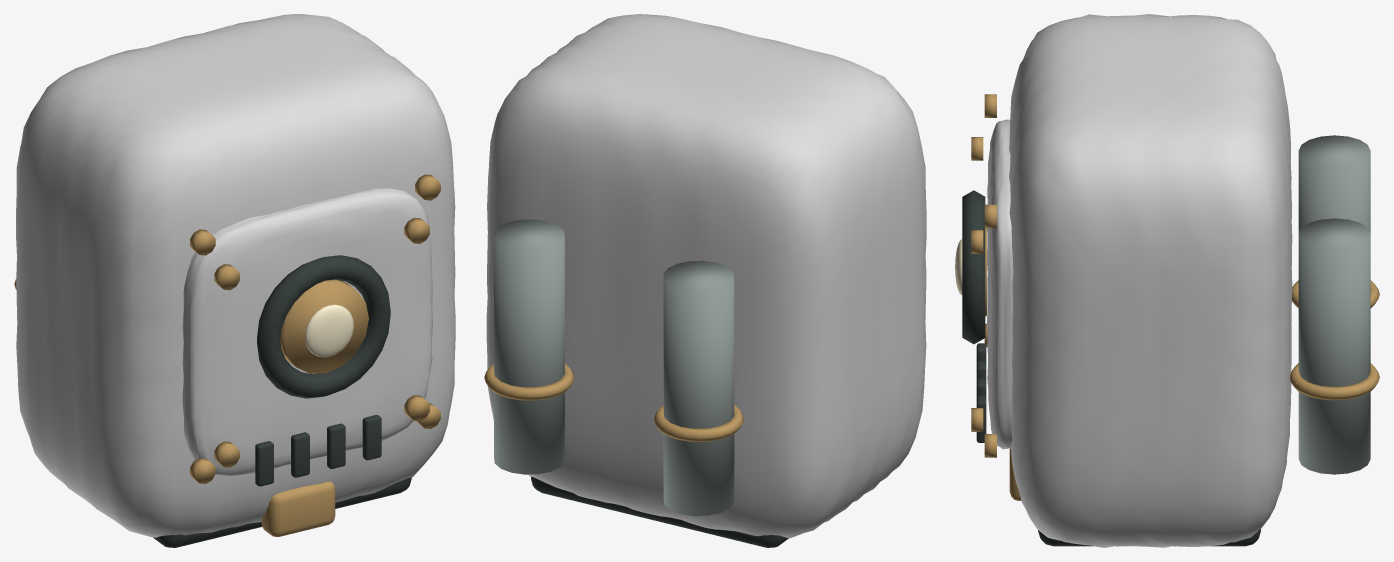
The model's file is deadeye-torso-0.glb.
3 renders of one model, left to right at view 1: azimuth 30°, elevation 25°; view 2: azimuth 150°, elevation 25°; view 3: azimuth 270°, elevation 25°, orthographic.
Parts seen in each view (by area): view 1: torso_clay, torso_mechanism, torso_brass, torso_lens; view 2: torso_clay, torso_steel, torso_brass, torso_mechanism; view 3: torso_clay, torso_steel, torso_mechanism, torso_brass.
Boxes of the visible parts, bbox=[...] form: torso_clay: bbox=[16, 14, 455, 537]; torso_mechanism: bbox=[153, 255, 411, 547]; torso_brass: bbox=[14, 174, 440, 536]; torso_lens: bbox=[305, 304, 353, 357]; torso_clay: bbox=[486, 14, 926, 538]; torso_steel: bbox=[494, 219, 734, 515]; torso_brass: bbox=[484, 363, 743, 441]; torso_mechanism: bbox=[531, 477, 788, 547]; torso_clay: bbox=[987, 14, 1292, 547]; torso_steel: bbox=[1298, 135, 1370, 474]; torso_mechanism: bbox=[962, 190, 1260, 546]; torso_brass: bbox=[971, 94, 1379, 500].
Bounding box in the file's own units: 1.09 × 1.25 × 1.12.
